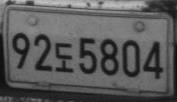0: (121, 38, 141, 78)
2: (33, 33, 52, 70)
4: (142, 40, 163, 79)
5: (78, 37, 98, 75)
8: (99, 38, 120, 76)
9: (11, 32, 30, 69)
도: (54, 41, 74, 73)
